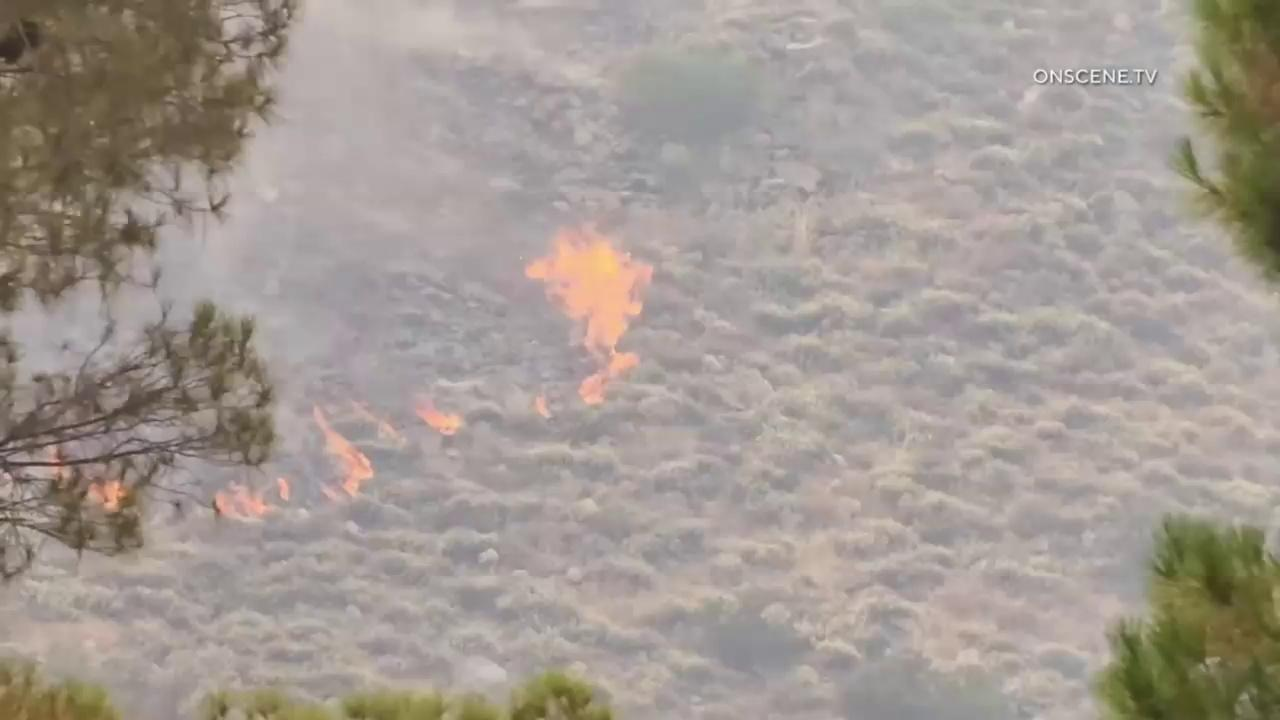fire: (521, 219, 658, 422), (306, 398, 373, 506), (43, 439, 122, 518), (205, 469, 292, 523), (351, 387, 410, 451), (412, 390, 463, 435), (533, 390, 554, 424)
smoke: (0, 0, 1280, 720)
